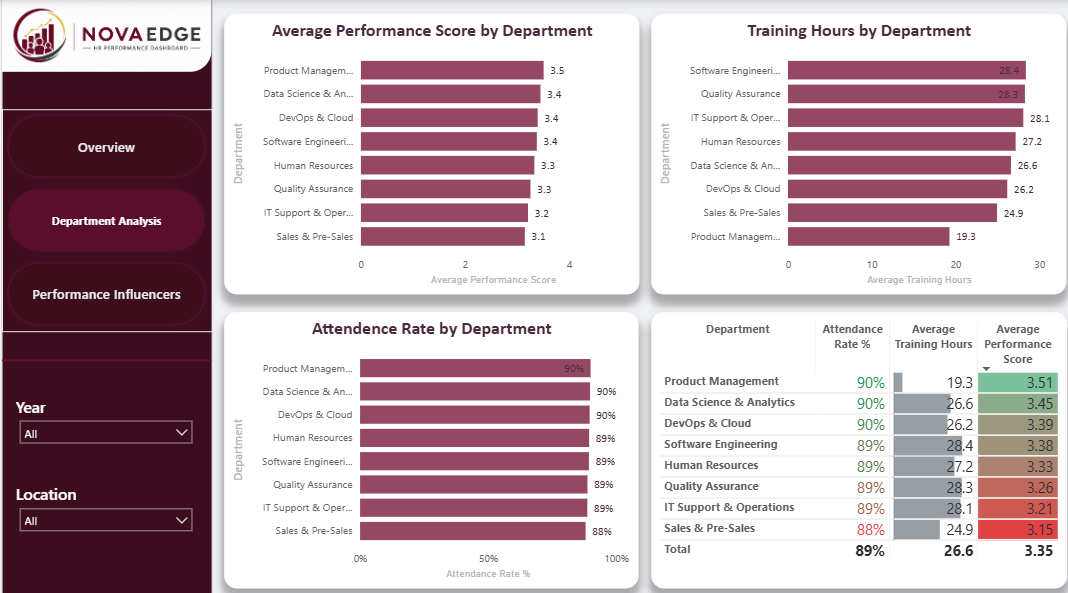

What the dashboard file says about the page in this screenshot:
{"tool":"powerbi","page":{"name":"Department Analysis","canvas":[1280,720],"ordinal":1},"visuals":[{"type":"pivotTable","fields":{"Rows":["dim_department.department_name"],"Values":["fact_performance.Attendance Rate %","fact_performance.Average Training Hours","fact_performance.Average Performance Score"]},"box":[772.8,372.4,495.5,329.4],"z":6000},{"type":"barChart","title":"Training Hours by Department","fields":{"Category":["dim_department.department_name","dim_employee.job_level","dim_employee.employee_id"],"Y":["fact_performance.Average Training Hours"]},"box":[772.8,17,494.5,334.4],"z":8000},{"type":"barChart","title":"Average Performance Score by Department","fields":{"Category":["dim_department.department_name","dim_employee.job_level","dim_employee.employee_id"],"Y":["fact_performance.Average Performance Score"]},"box":[265.3,17,494.5,334.4],"z":9000},{"type":"shape","title":"Menue BG","box":[0,0,250.4,719.9],"z":10000},{"type":"barChart","title":"Attendence Rate by Department","fields":{"Category":["dim_department.department_name","dim_employee.job_level","dim_employee.employee_id"],"Y":["fact_performance.Attendance Rate %"]},"box":[265.3,372.4,493.5,329.4],"z":11000},{"type":"pageNavigator","box":[1,130.1,249.3,264.3],"z":12000},{"type":"slicer","title":"Location","fields":{"Values":["dim_department.location"]},"box":[17,575.6,215.2,81.1],"z":13000},{"type":"slicer","title":"Year","fields":{"Values":["dim_date.year"]},"box":[17,472.5,215.2,83.1],"z":14000},{"type":"image","box":[0,0,249.9,85.4],"z":15000},{"type":"shape","box":[0,385.4,249.3,87.1],"z":16000}]}

Visuals, with their boxes in screenshot pixels (x1, y1, x2, y2), scaled from the page's 1280x720 canvas onto the 1068x593 screenshot:
pivotTable - dim_department.department_name x fact_performance.Attendance Rate %: <region>645, 307, 1058, 578</region>
"Training Hours by Department" barChart: <region>645, 14, 1057, 289</region>
"Average Performance Score by Department" barChart: <region>221, 14, 634, 289</region>
"Menue BG" shape: <region>0, 0, 209, 592</region>
"Attendence Rate by Department" barChart: <region>221, 307, 633, 578</region>
pageNavigator: <region>1, 107, 209, 325</region>
"Location" slicer: <region>14, 474, 194, 541</region>
"Year" slicer: <region>14, 389, 194, 458</region>
image: <region>0, 0, 209, 70</region>
shape: <region>0, 317, 208, 389</region>
